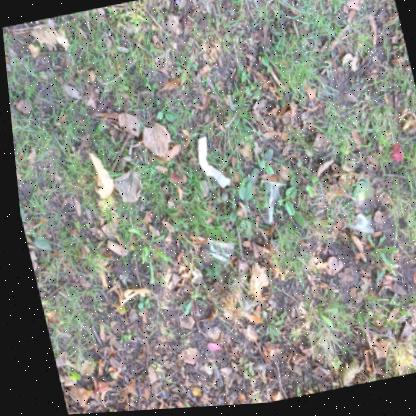Paper: (194, 139, 225, 190)
Plastic: (189, 238, 228, 270), (258, 183, 281, 227), (345, 217, 366, 237)
